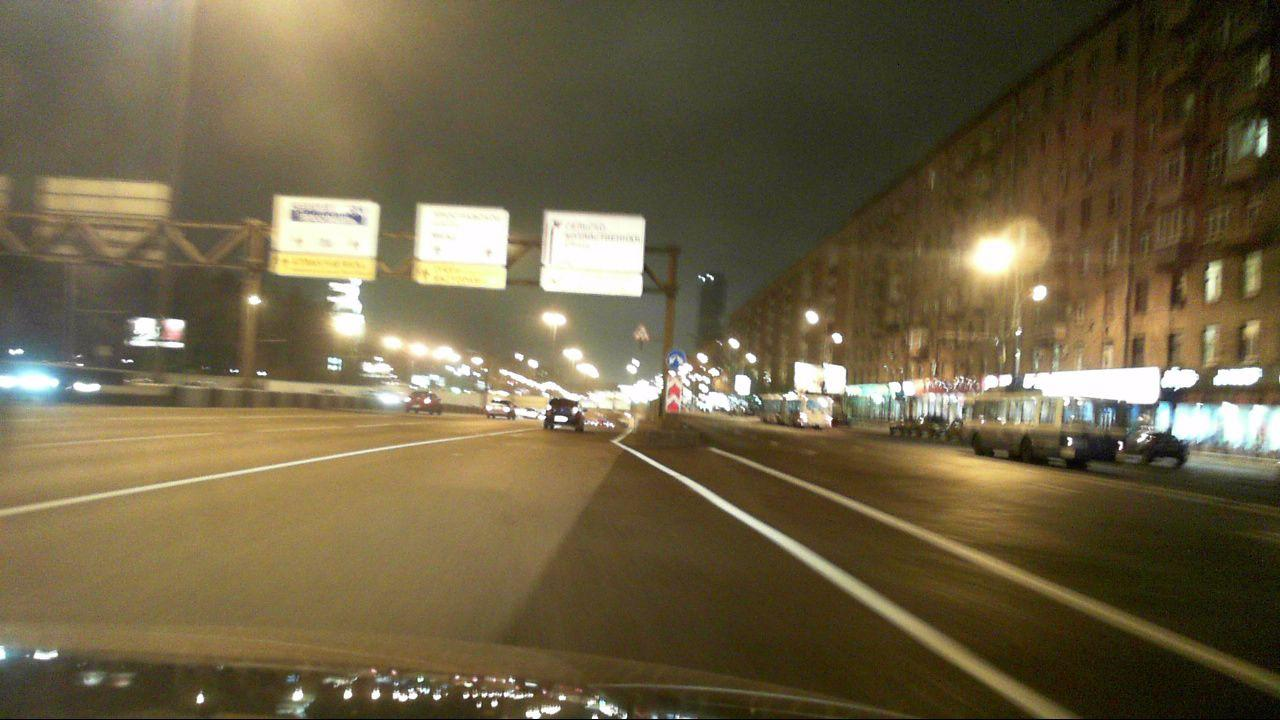road_sign: (666, 376, 682, 415), (665, 349, 688, 370)
